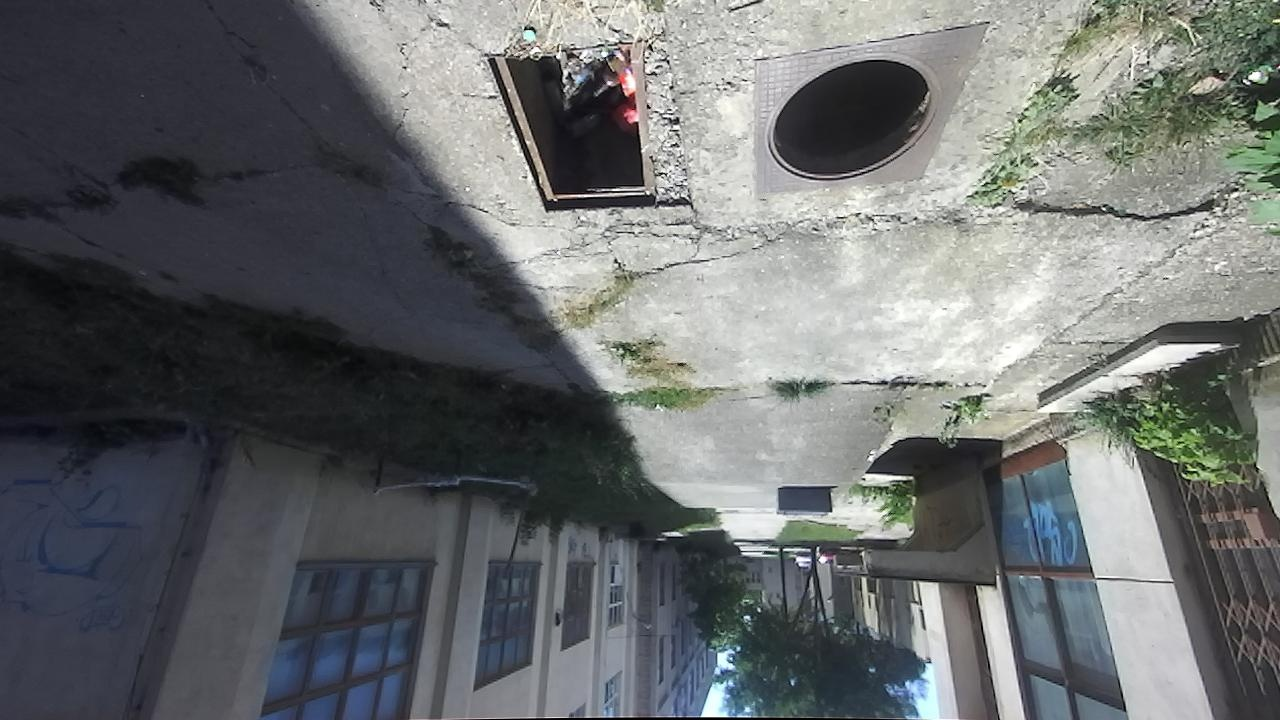drain: (482, 55, 699, 214), (768, 59, 933, 185)
